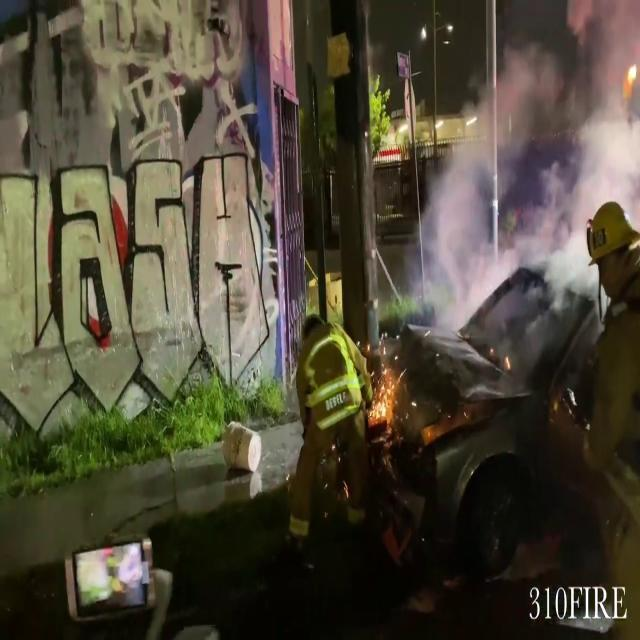Smoke: (409, 0, 640, 328)
